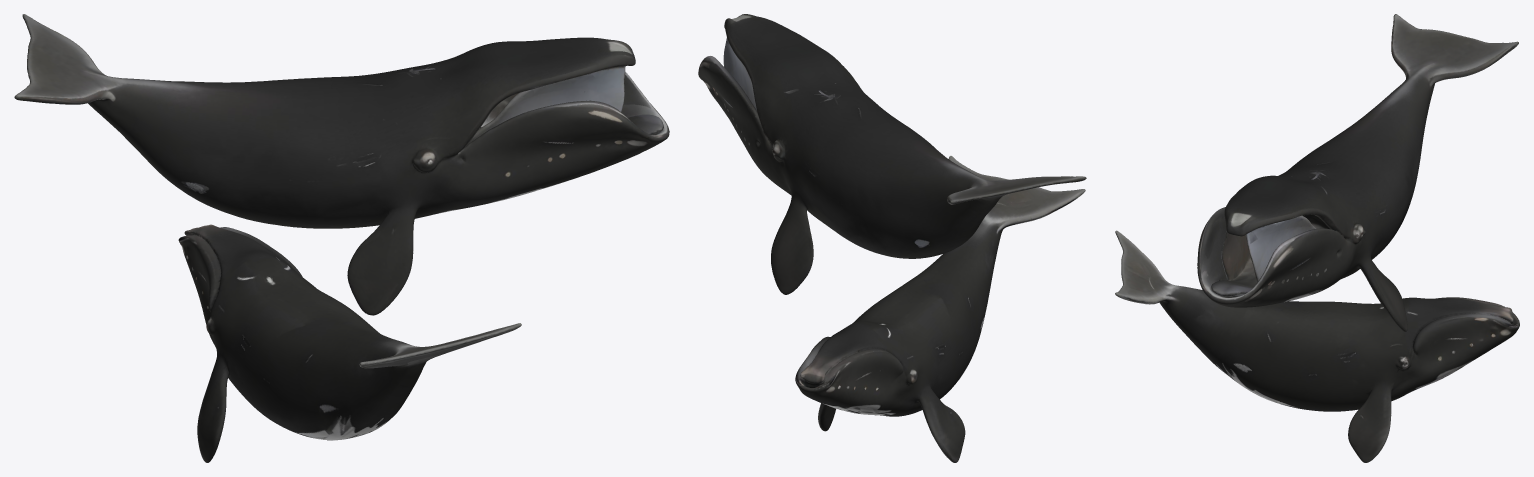
Rendered from RightWhale.glb.
The picture shows the model from 3 angles, left to right: view 1: azimuth 30°, elevation 25°; view 2: azimuth 150°, elevation 25°; view 3: azimuth 270°, elevation 25°; orthographic projection. The views are drawn at different scales.
Visible parts, largest first — view 1: tripo_node_91ed979b-c92f-442f-9ceb-4ff85bdb3544; view 2: tripo_node_91ed979b-c92f-442f-9ceb-4ff85bdb3544; view 3: tripo_node_91ed979b-c92f-442f-9ceb-4ff85bdb3544.
Boxes of the visible parts, x1,y1,x2,y2 form: tripo_node_91ed979b-c92f-442f-9ceb-4ff85bdb3544: [14, 14, 669, 462]; tripo_node_91ed979b-c92f-442f-9ceb-4ff85bdb3544: [698, 14, 1086, 462]; tripo_node_91ed979b-c92f-442f-9ceb-4ff85bdb3544: [1115, 14, 1519, 462].
Bounding box in the file's own units: 1 × 0.6956 × 0.7851.
1 material, 1 textured.
